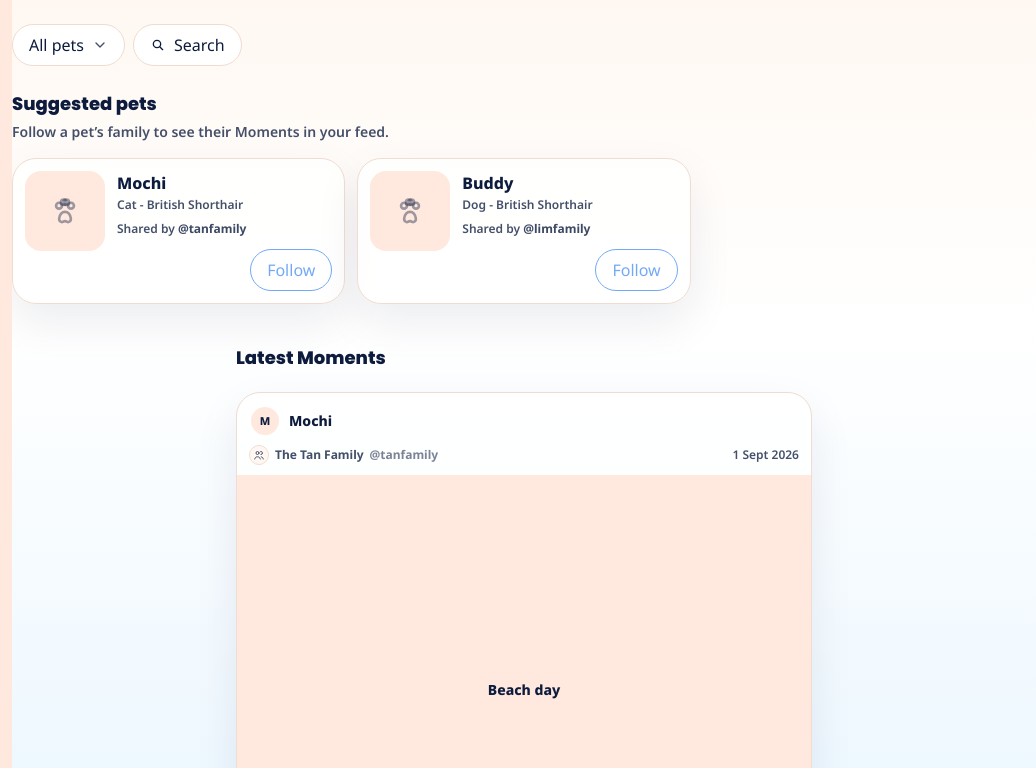
Test case: SocialExploreView › lists the species the data actually has, from the catalogue
Click the button with test id "species-filter-trigger": (68, 45) [12,24,125,66]
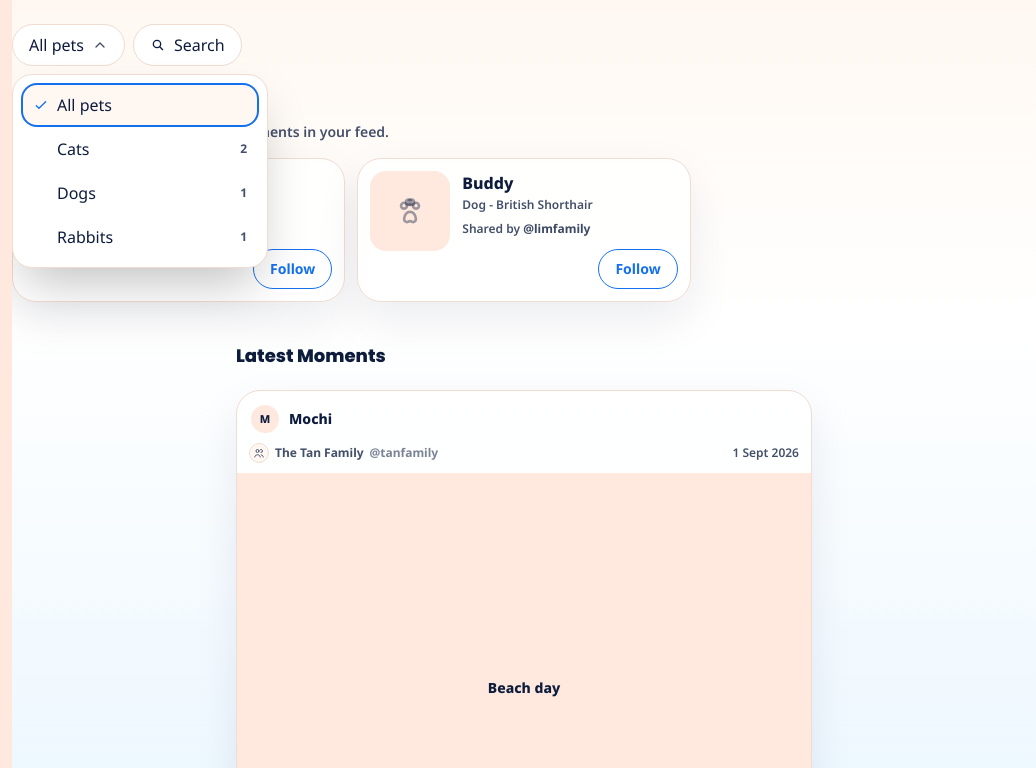
Result: the 2nd text "All pets" is shown at [57,94,112,116]
Result: the text "Cats" is shown at [57,138,90,160]
Result: the text "Dogs" is shown at [57,182,96,204]
